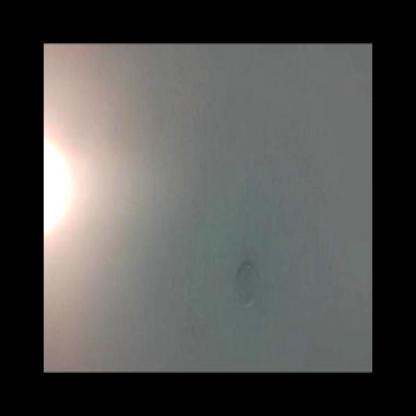light_on: (44, 130, 69, 245)
